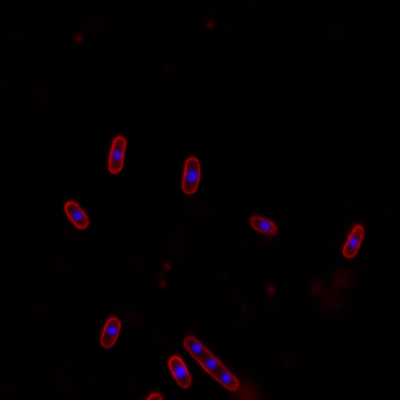CAM: (181, 332, 241, 393), (339, 222, 367, 259), (166, 352, 193, 389), (106, 133, 127, 175), (62, 200, 90, 231), (180, 156, 202, 195), (248, 212, 280, 236), (99, 315, 121, 349)
Vesicle: (266, 283, 279, 297), (162, 259, 173, 271), (158, 278, 169, 290), (73, 32, 85, 43), (205, 19, 214, 29)
